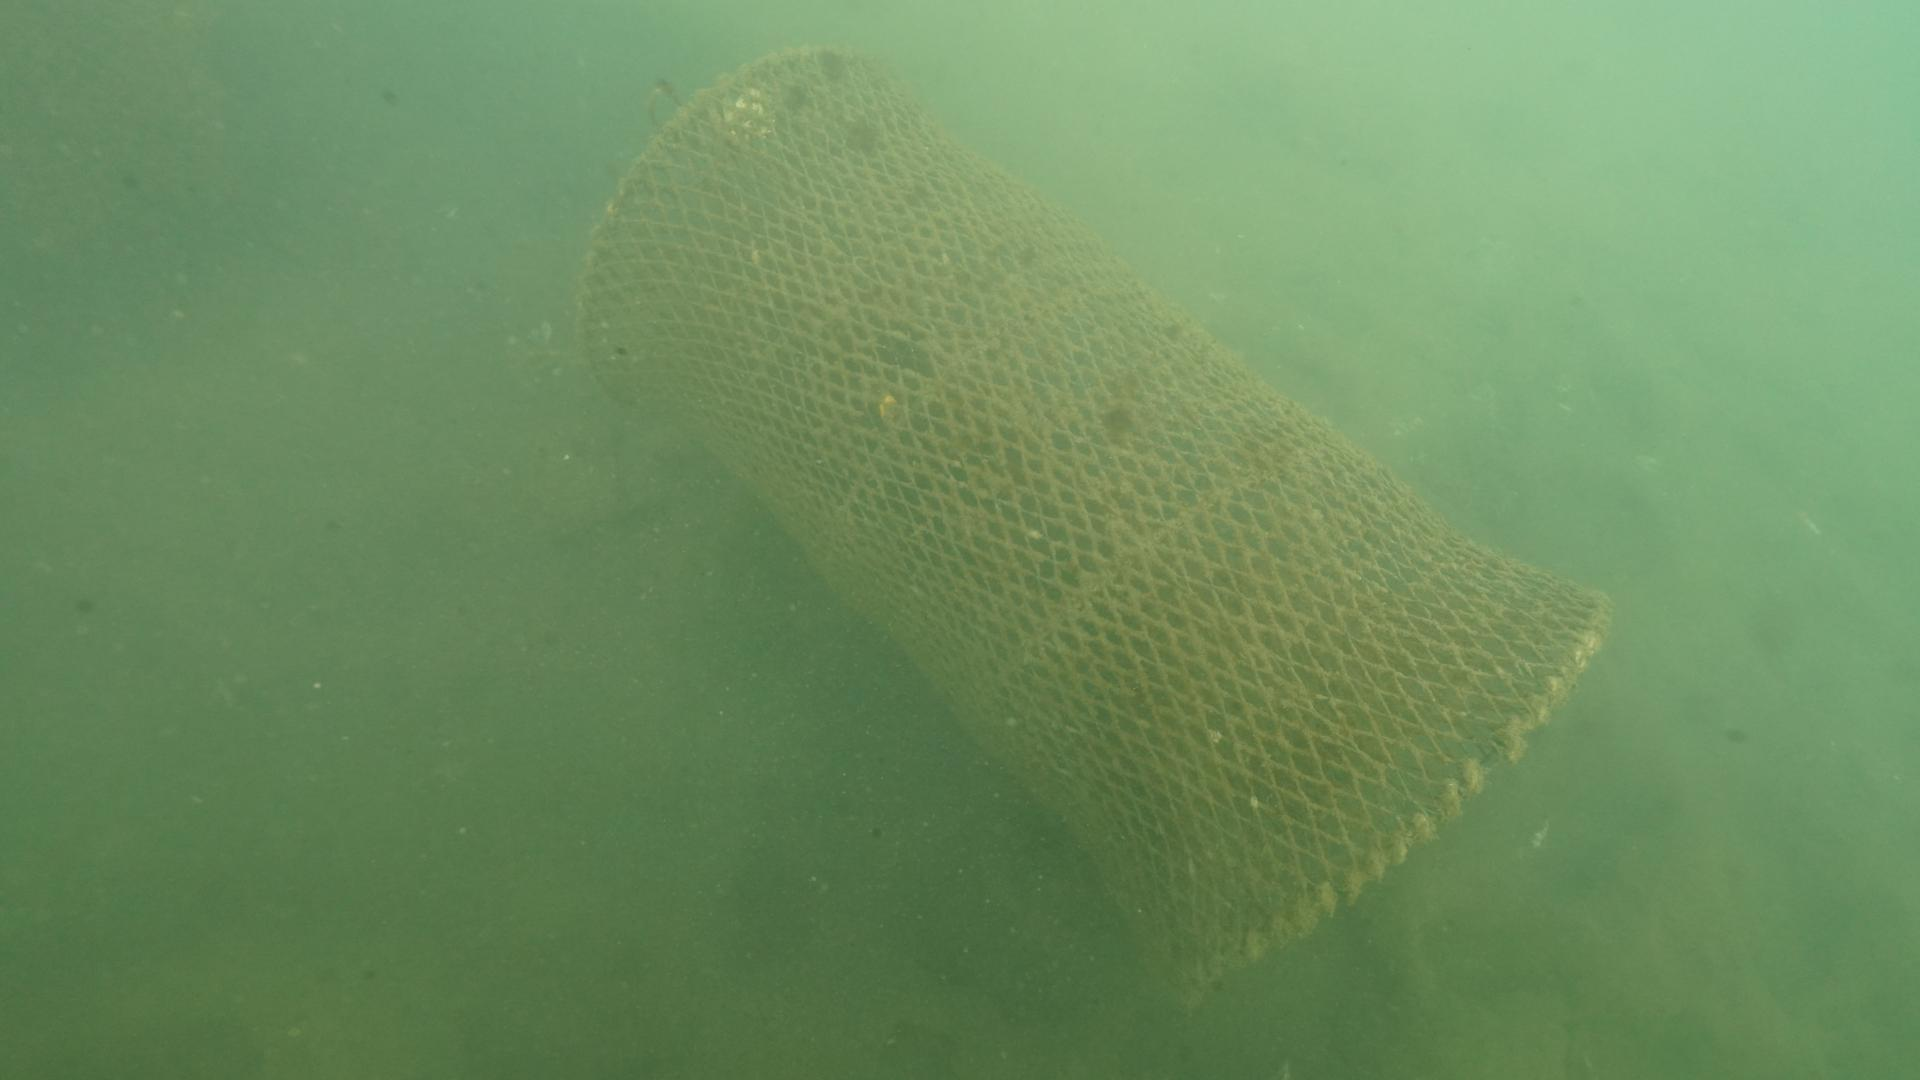spring fish trap: (574, 37, 1617, 1015)
